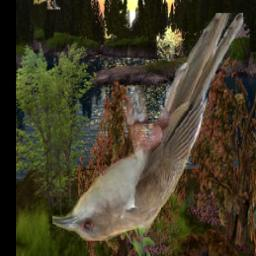Crow: (35, 0, 61, 11)
Cuckoo: (53, 14, 244, 242)
